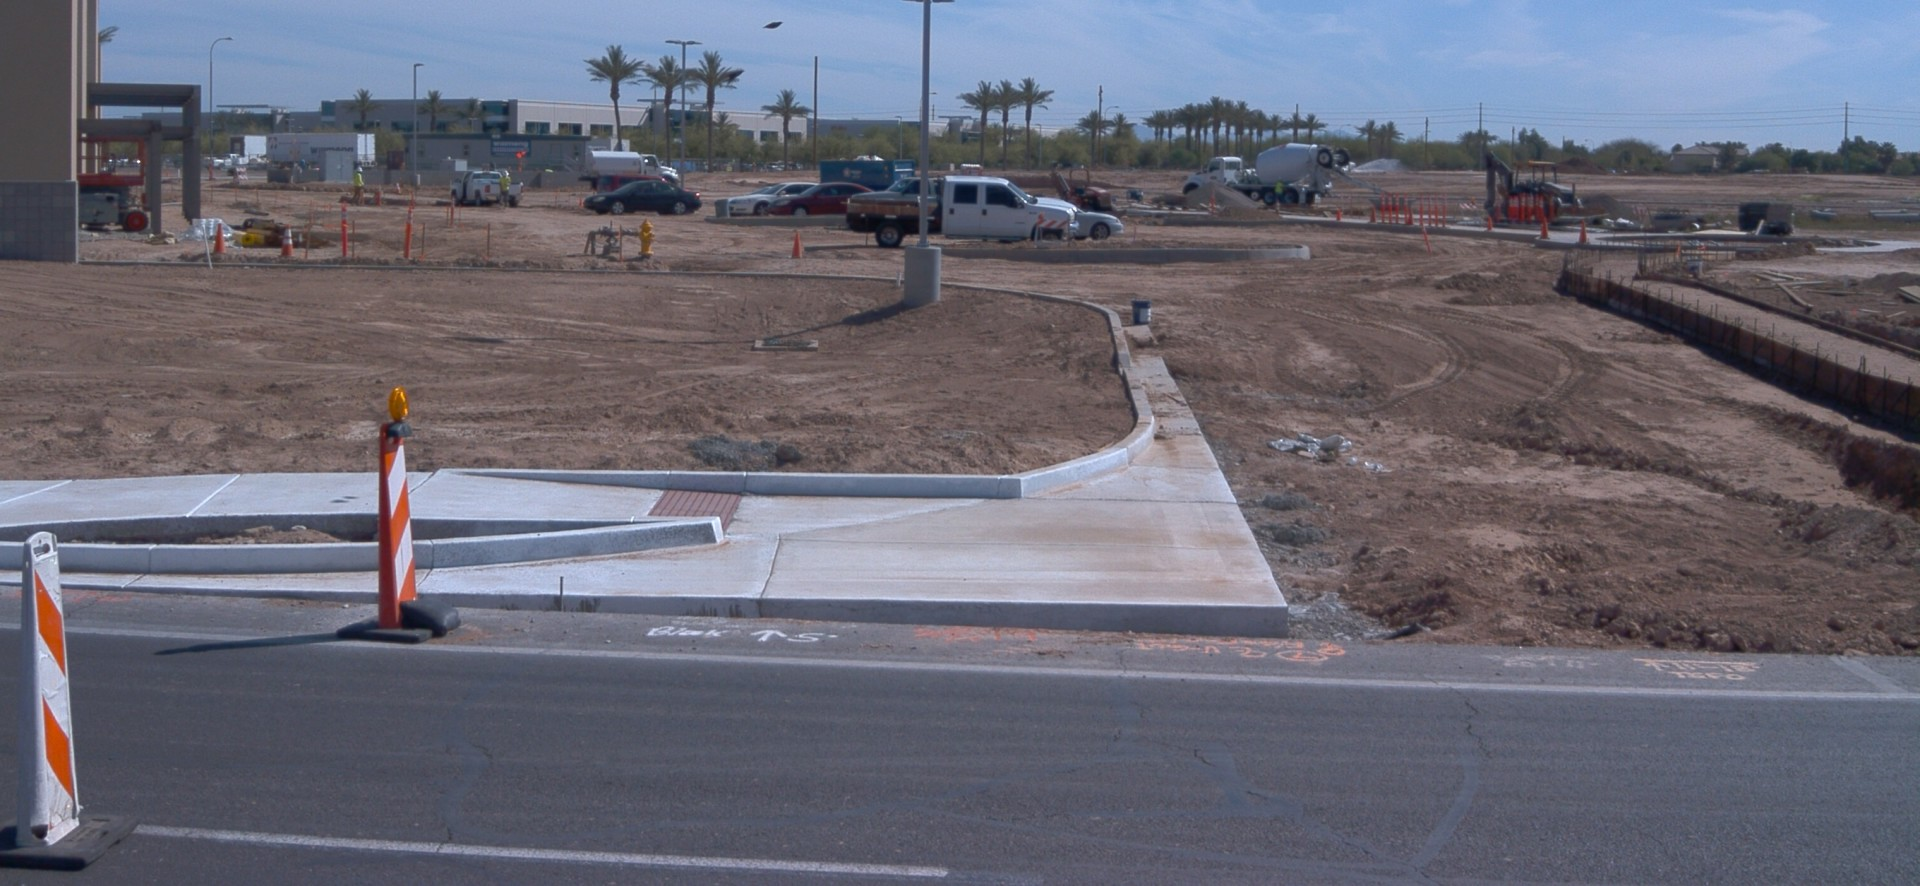TYPE_PEDESTRIAN: (347, 168, 364, 208), (500, 169, 514, 208), (1271, 176, 1287, 208)
TYPE_VEHICLE: (845, 174, 1081, 245), (1182, 144, 1399, 209), (1482, 149, 1609, 228), (102, 123, 263, 179), (263, 126, 376, 173), (581, 143, 681, 193), (580, 177, 702, 217), (844, 175, 947, 219), (768, 177, 878, 217), (1049, 165, 1118, 216), (729, 180, 819, 214), (449, 168, 525, 208), (594, 175, 688, 196), (1068, 206, 1124, 240), (726, 184, 771, 202), (1341, 163, 1357, 178)
